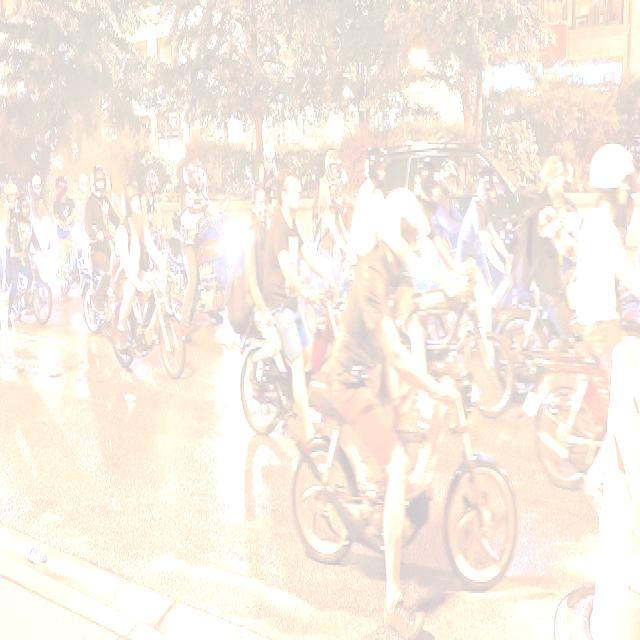Motorbike: (293, 352, 519, 588)
